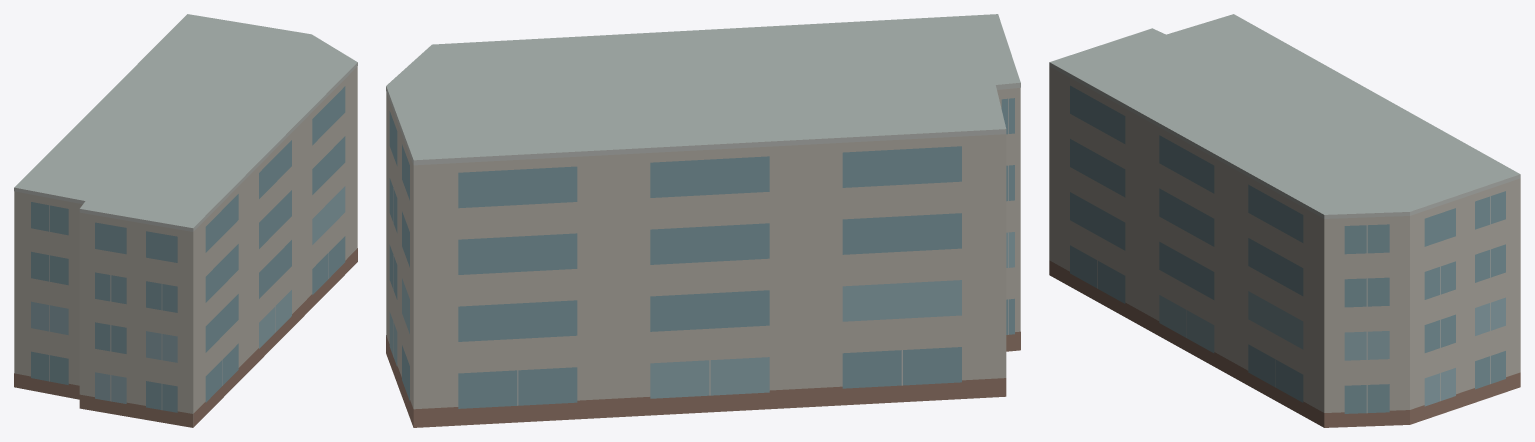
The model's file is survey-upis-32630555.glb.
3 views of the same model, side by side, from view 1: azimuth 30°, elevation 25°; view 2: azimuth 150°, elevation 25°; view 3: azimuth 270°, elevation 25° (orthographic). The views are drawn at different scales.
Visible parts, largest first — view 1: survey-upis-32630555.tmp; view 2: survey-upis-32630555.tmp; view 3: survey-upis-32630555.tmp.
Part boxes in pixels (bbox=[...]): survey-upis-32630555.tmp: bbox=[14, 14, 357, 427]; survey-upis-32630555.tmp: bbox=[386, 14, 1020, 427]; survey-upis-32630555.tmp: bbox=[1049, 14, 1520, 427].
Bounding box in the file's own units: 25.91 × 12.8 × 25.67.
